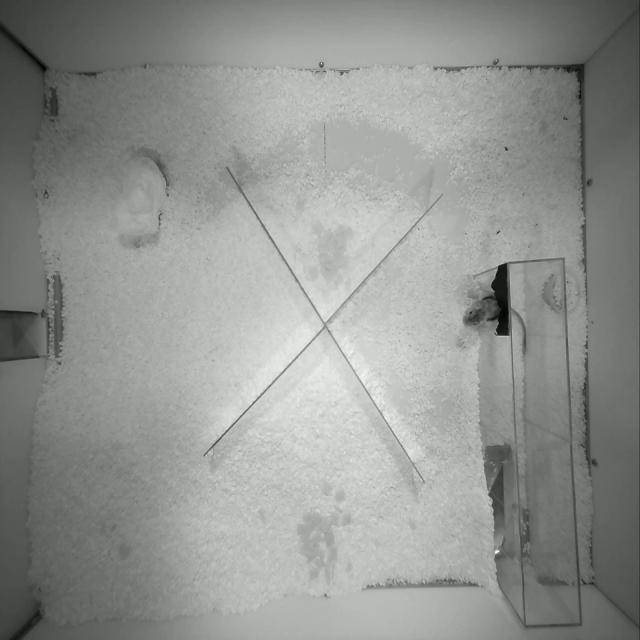adult_front: (463, 297, 500, 329), (512, 310, 526, 355)
